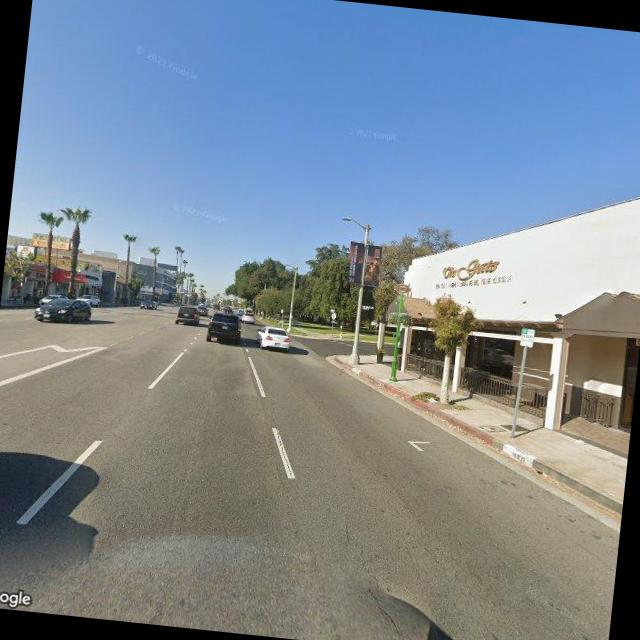pothole: (324, 508, 416, 639)
